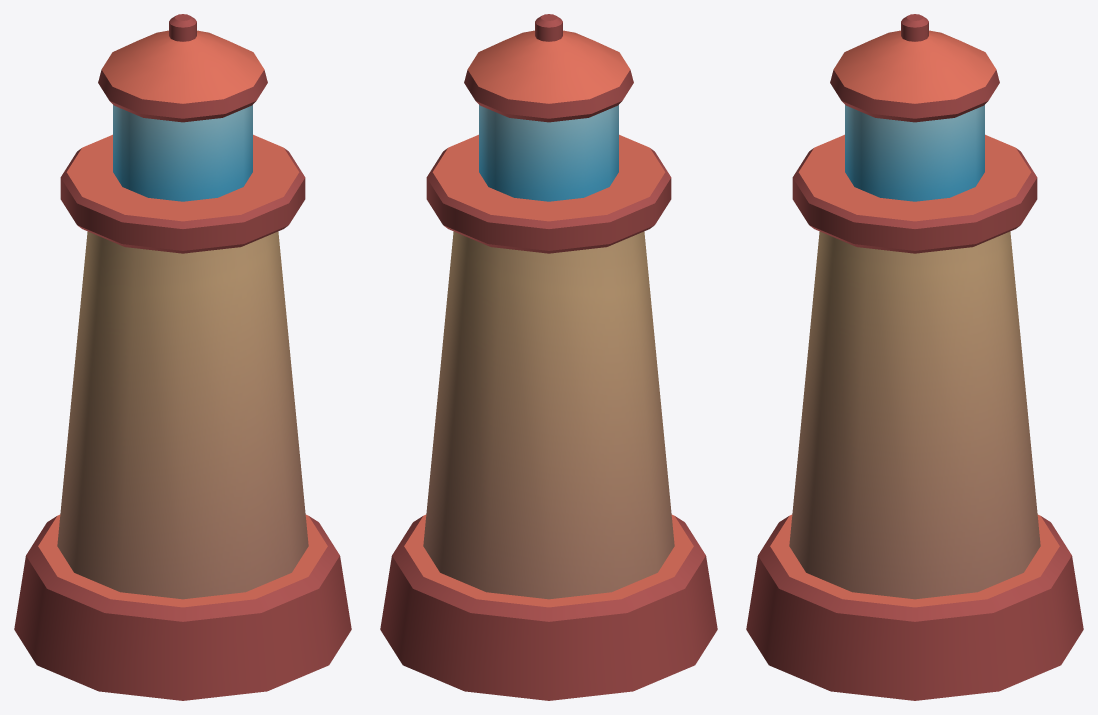
Rendered from lighthouse.gltf.
The picture shows the model from 3 angles, left to right: view 1: azimuth 30°, elevation 25°; view 2: azimuth 150°, elevation 25°; view 3: azimuth 270°, elevation 25°; orthographic projection.
Visible parts, largest first — view 1: Cylinder; view 2: Cylinder; view 3: Cylinder.
Boxes of the visible parts, x1=… form: Cylinder: x1=14, y1=14, x2=351, y2=700; Cylinder: x1=380, y1=14, x2=717, y2=700; Cylinder: x1=746, y1=14, x2=1083, y2=700.
Size of the model in its own units: 5.37 by 10.75 by 5.37.
Materials: 1 (1 with a texture image).
